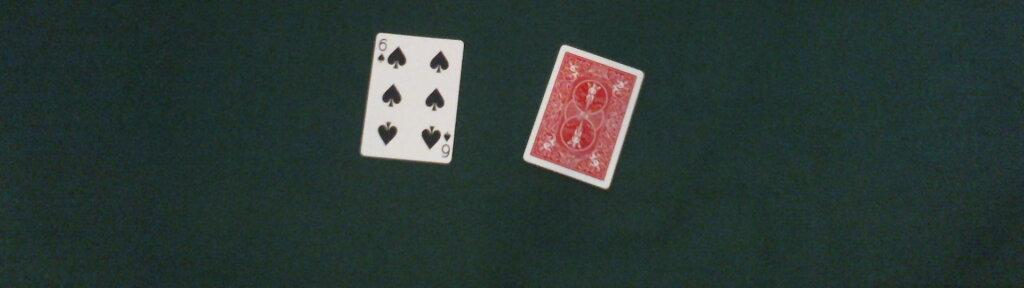back: (521, 45, 644, 190)
six: (360, 28, 465, 165)
